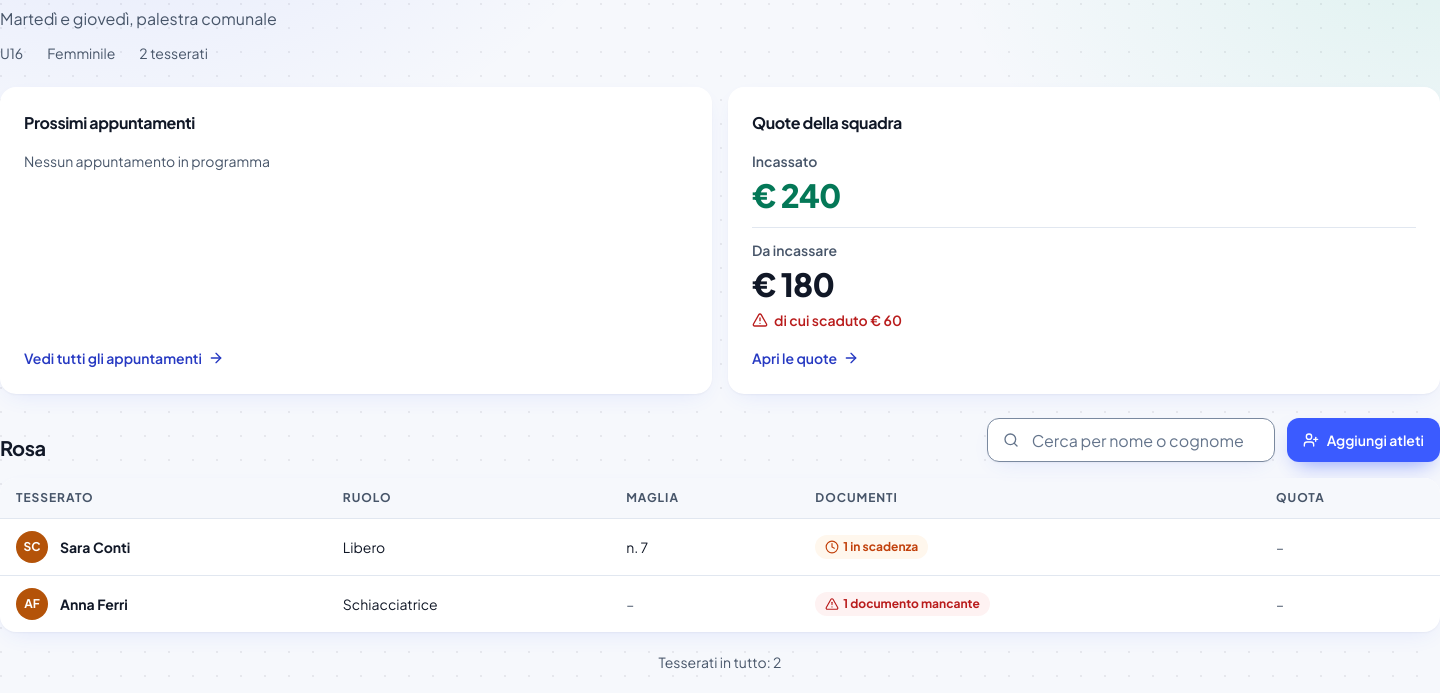
Test: TeamDetailPage › searches the roster by name and tells when nobody matches
Expected: the table named "Rosa di Under 16" is shown, left=0, top=478, right=1439, bottom=632
Type "sara" into the search field named "Cerca nella rosa" at point(1131, 440), box left=987, top=418, right=1275, bottom=462
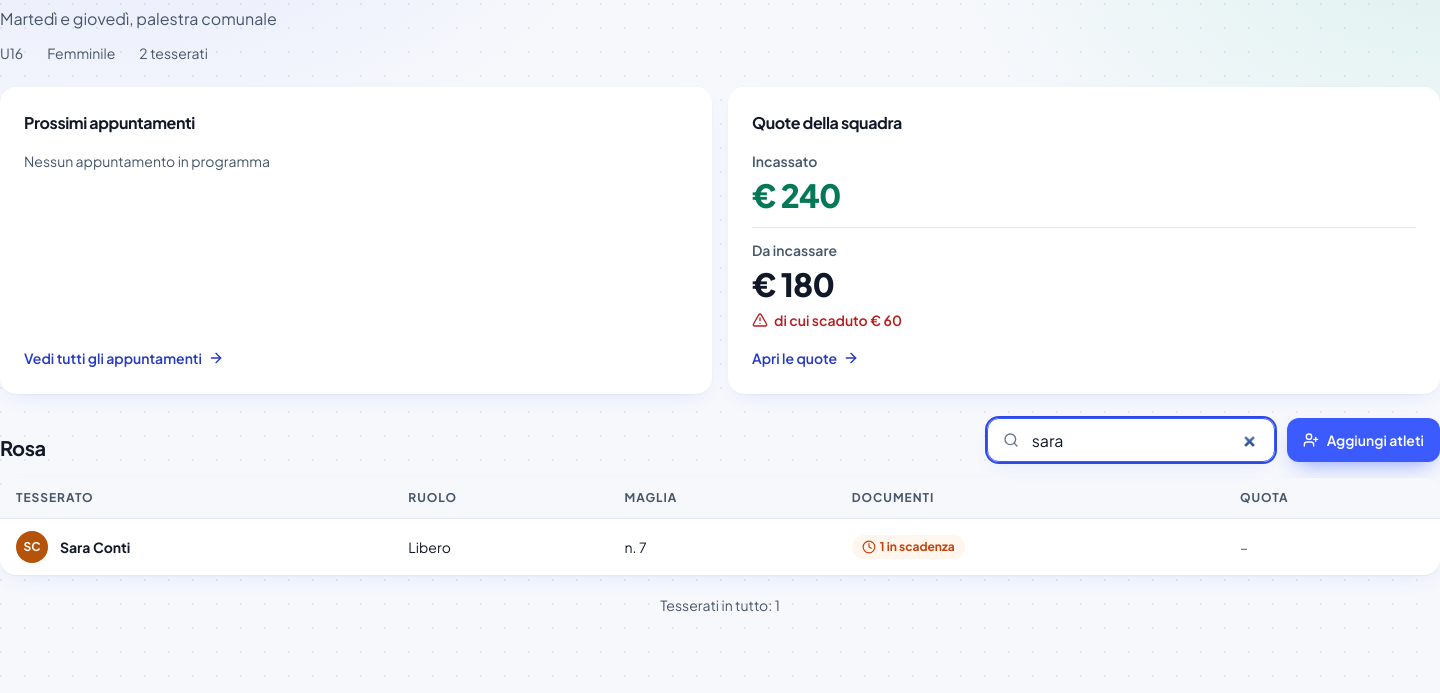
Expected: the link "SC Sara Conti" is shown, left=16, top=531, right=130, bottom=563
Expected: the link "Anna Ferri" is gone
Replace the text in the search field named "Cerca nella rosa" with "zzz" at point(1131, 440), box left=987, top=418, right=1275, bottom=462
(page scrolled)
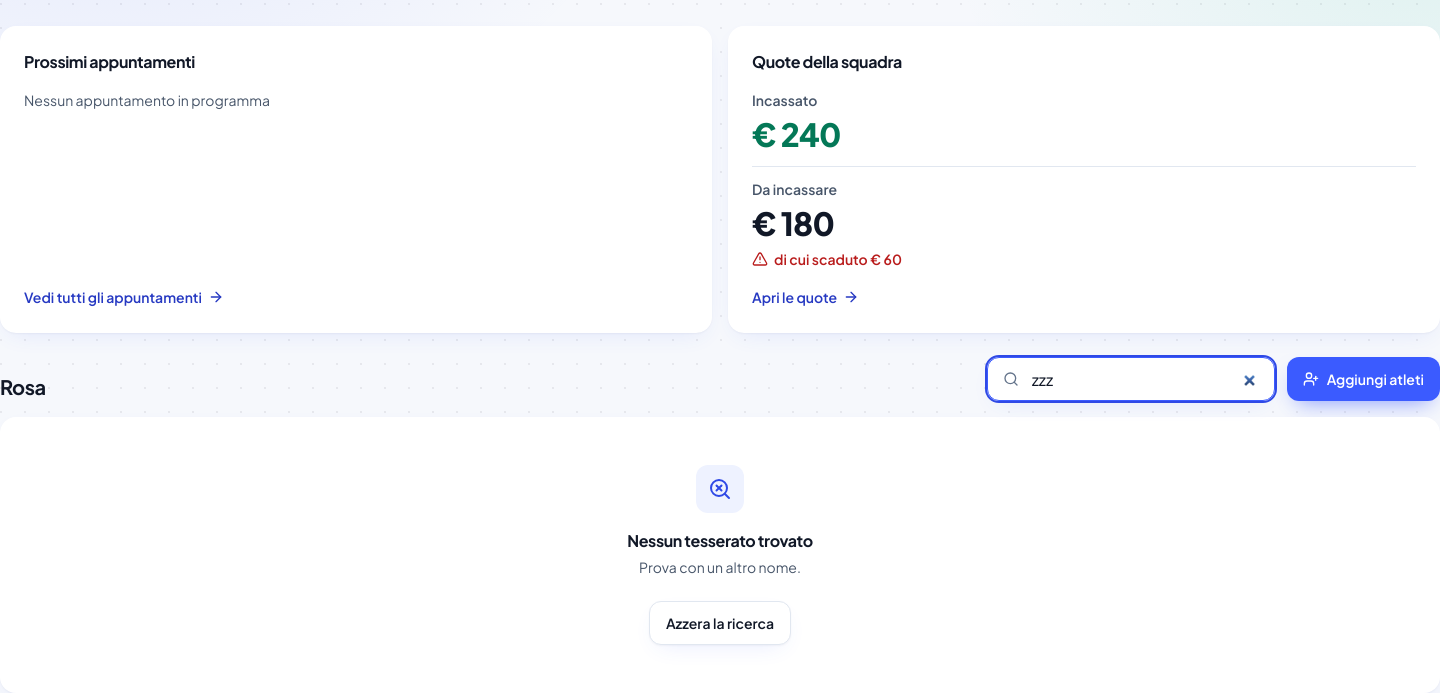
Expected: the heading "Nessun tesserato trovato" is shown, left=627, top=529, right=813, bottom=553
Click the button "Azzera la ricerca" at point(720, 623), box left=649, top=601, right=791, bottom=645
(page scrolled)
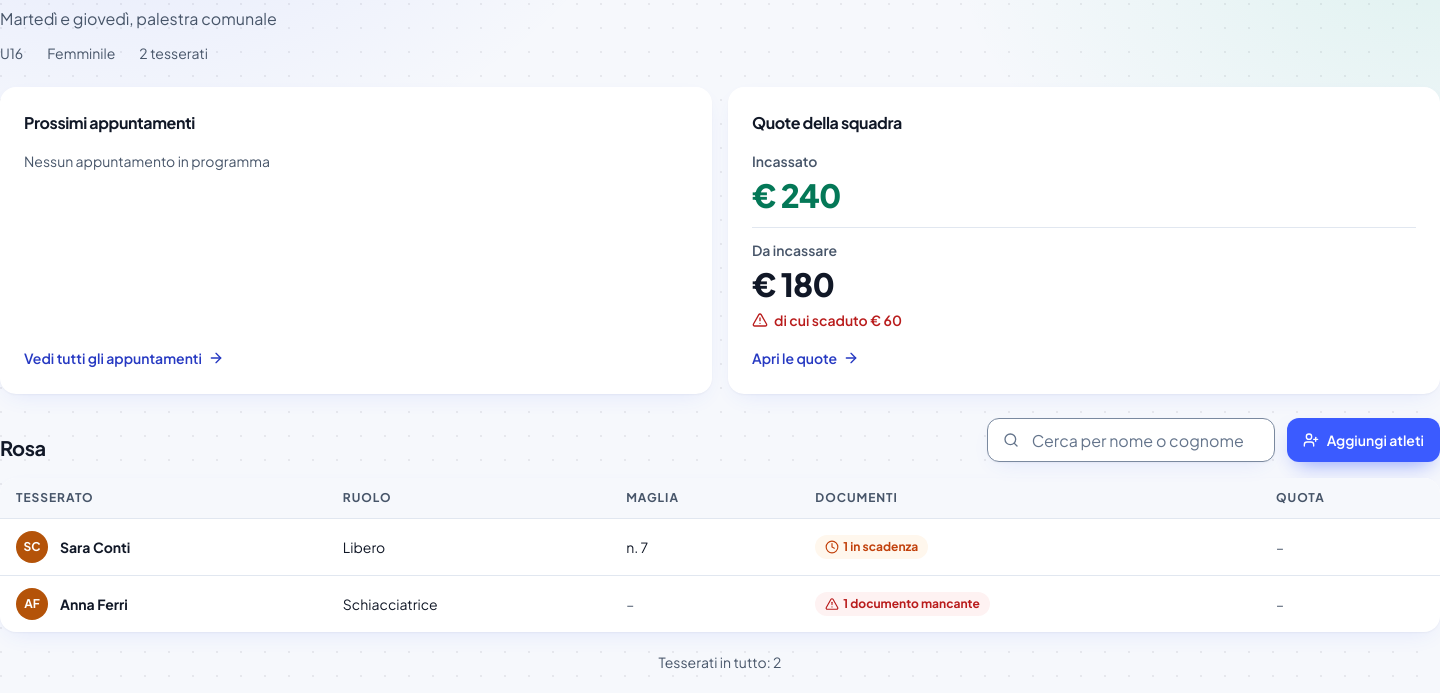
Expected: the link "AF Anna Ferri" is shown, left=16, top=588, right=128, bottom=620
